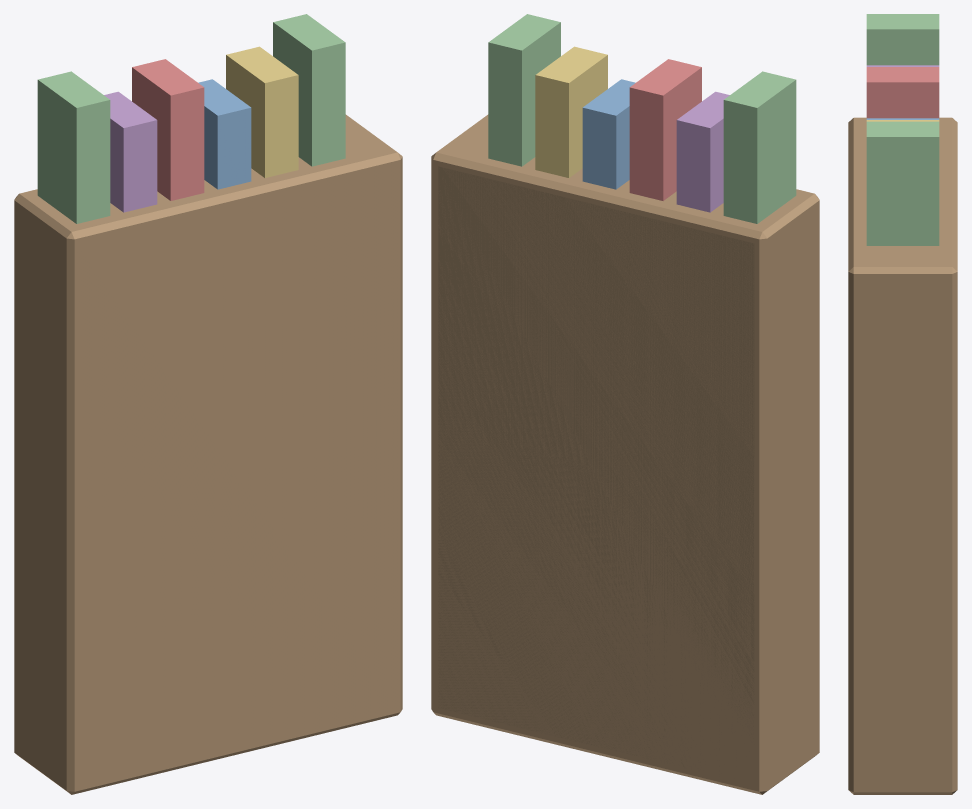
Rendered from th_buecherregal.glb.
The picture shows the model from 3 angles, left to right: view 1: azimuth 30°, elevation 25°; view 2: azimuth 150°, elevation 25°; view 3: azimuth 270°, elevation 25°; orthographic projection. The views are drawn at different scales.
Parts seen in each view (by area): view 1: buecherregal; view 2: buecherregal; view 3: buecherregal.
Boxes of the visible parts, x1,y1,x2,y2 form: buecherregal: (14, 14, 402, 794); buecherregal: (431, 14, 819, 794); buecherregal: (848, 14, 957, 794).
Size of the model in its own units: 1 by 1.93 by 0.3.
